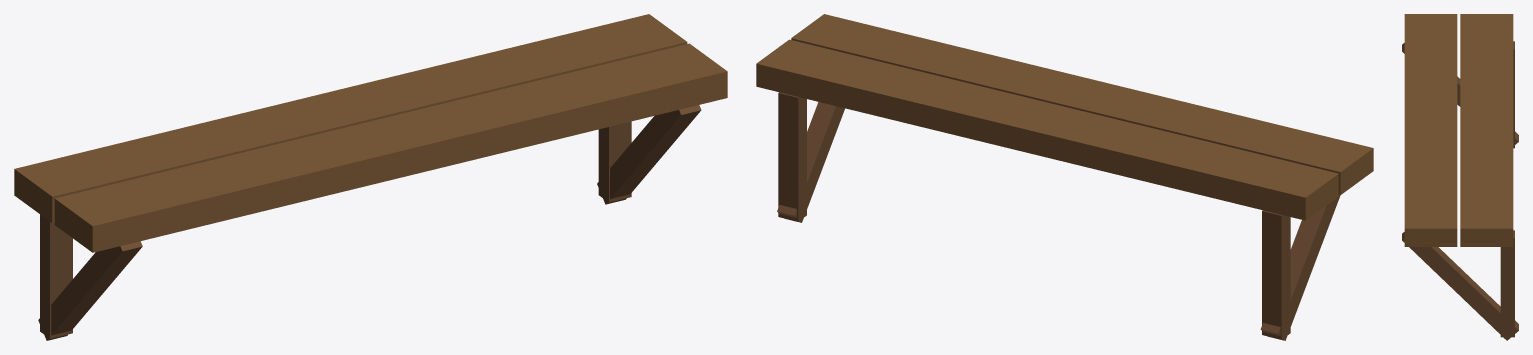
File: mdvl_interiors_shelf_01.glb
The picture shows the model from 3 angles, left to right: view 1: azimuth 30°, elevation 25°; view 2: azimuth 150°, elevation 25°; view 3: azimuth 270°, elevation 25°; orthographic projection. The views are drawn at different scales.
Visible parts, largest first — view 1: mdvl_interiors_shelf_01; view 2: mdvl_interiors_shelf_01; view 3: mdvl_interiors_shelf_01.
Part boxes in pixels (x1,y1,x2,y2): mdvl_interiors_shelf_01: (14,14,727,340); mdvl_interiors_shelf_01: (756,14,1373,340); mdvl_interiors_shelf_01: (1402,14,1518,340).
Bounding box in the file's own units: 1 × 0.2643 × 0.2299.
Materials: 1 (1 with a texture image).
